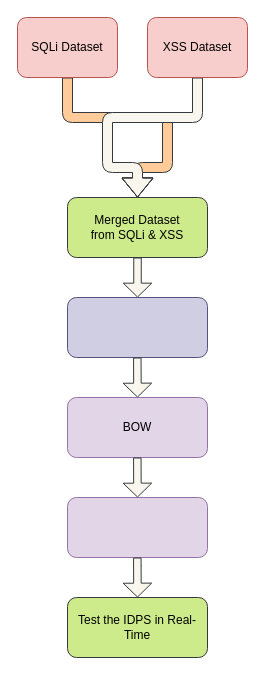
Some shapes in this 265 by 675 pixel diagram are drawn without their labels. The centre of each missing label's shape, as x and y in pixels:
"Pre-Processing" goes at point 137,327.
"Trained and Test Model with ML" goes at point 137,527.
